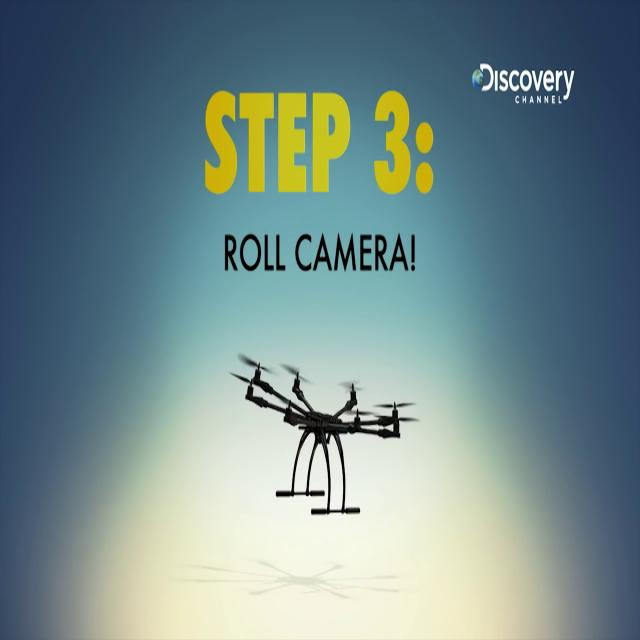drone: (239, 338, 432, 538)
